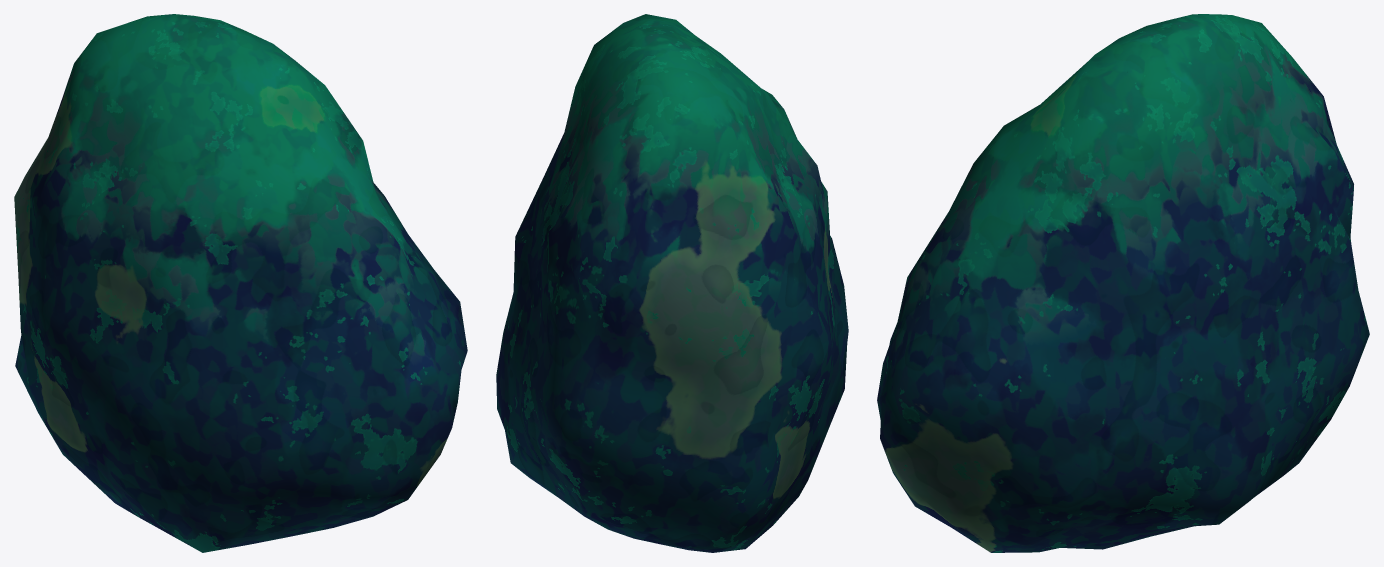
The model's file is Roca_Muelle.fbx.
3 renders of one model, left to right at view 1: azimuth 30°, elevation 25°; view 2: azimuth 150°, elevation 25°; view 3: azimuth 270°, elevation 25°, orthographic. The views are drawn at different scales.
Parts seen in each view (by area): view 1: roca_muelle; view 2: roca_muelle; view 3: roca_muelle.
Boxes of the visible parts, x1,y1,x2,y2 form: roca_muelle: [14, 14, 467, 552]; roca_muelle: [496, 14, 848, 552]; roca_muelle: [877, 14, 1369, 552].
Bounding box in the file's own units: 10272 × 14594 × 12773.
